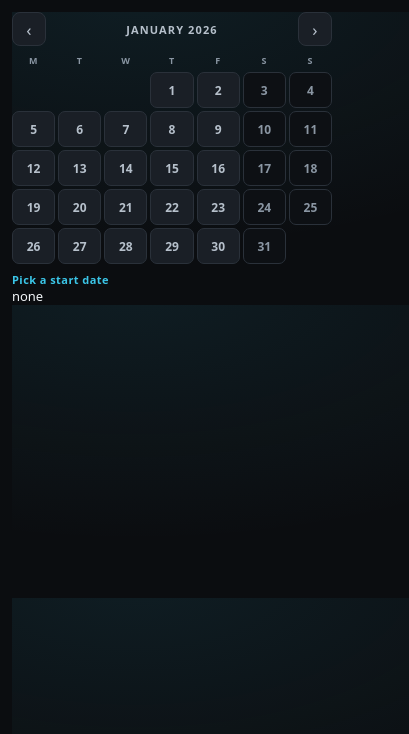
Test: RangePicker › clears back to nothing
Click the button "5" at (34, 129), box [12,111,55,147]
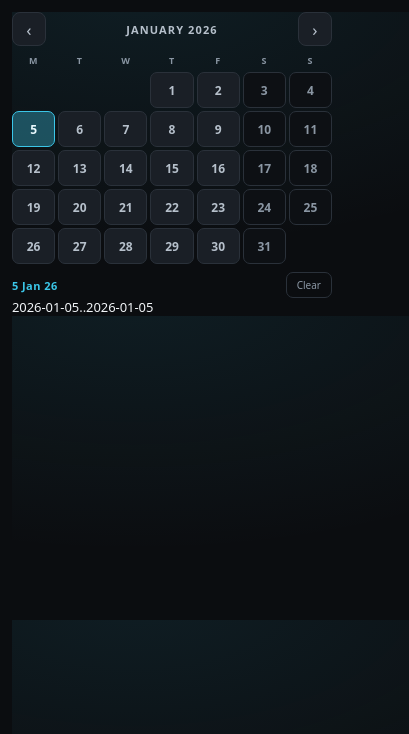
Click the button with test id "range-clear" at (309, 285), box [286,272,332,298]
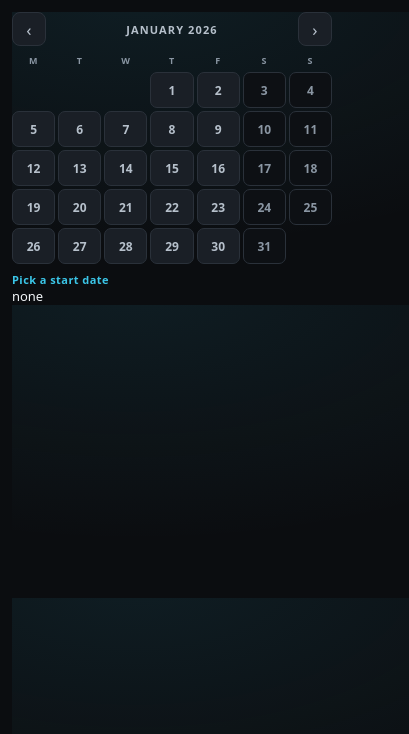
Now the text with test id "value" reads "none", box [12,287,43,305]
